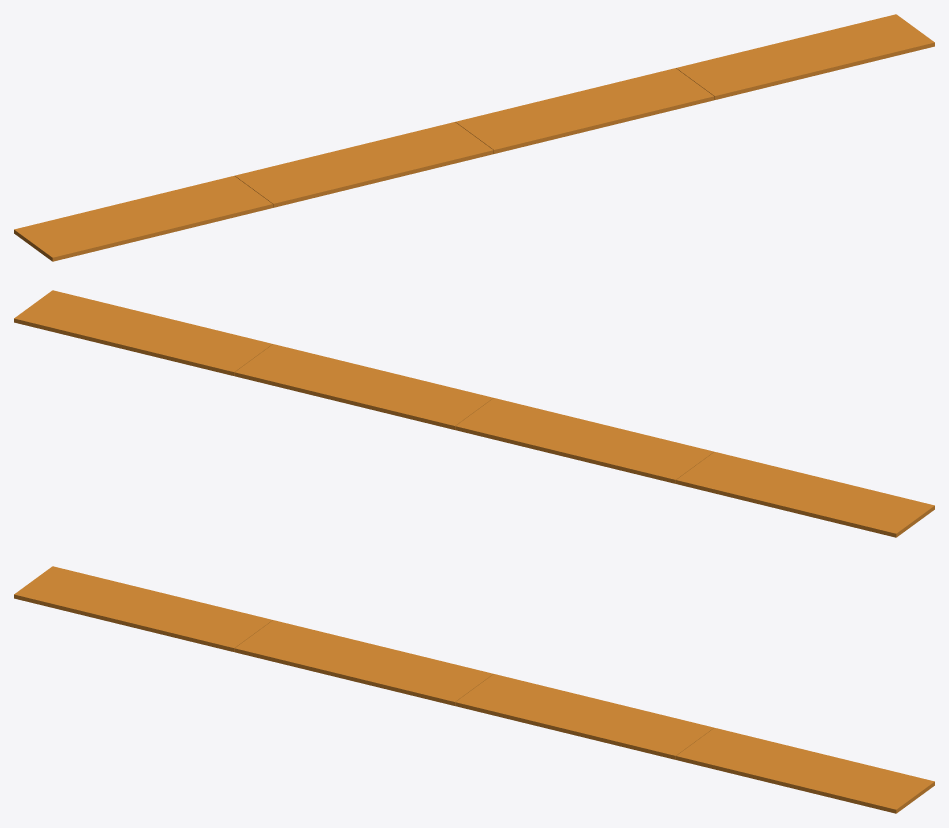
The model's file is SM_guidance_sidewalk_long.fbx.
The picture shows the model from 3 angles, top to bottom: view 1: azimuth 30°, elevation 25°; view 2: azimuth 150°, elevation 25°; view 3: azimuth 330°, elevation 25°; orthographic projection.
Visible parts, largest first — view 1: Box451; view 2: Box451; view 3: Box451.
Part boxes in pixels (bbox=[...]): Box451: bbox=[14, 14, 934, 261]; Box451: bbox=[14, 290, 934, 537]; Box451: bbox=[14, 566, 934, 813].
Size of the model in its own units: 187 by 0.8158 by 14.2.
